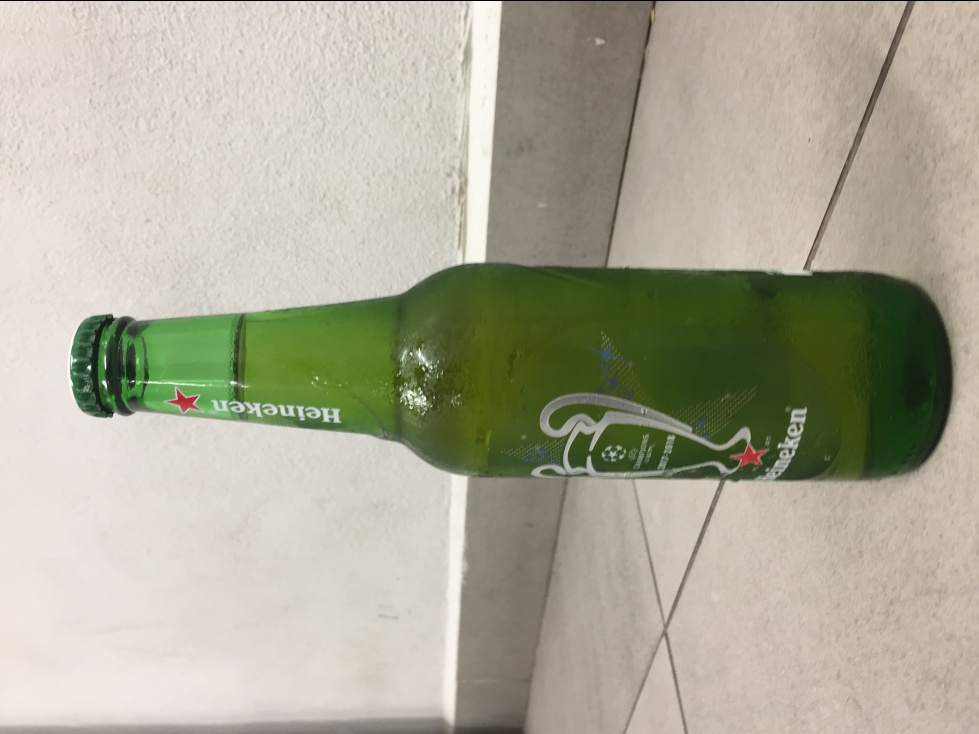heineken: (67, 261, 956, 480)
